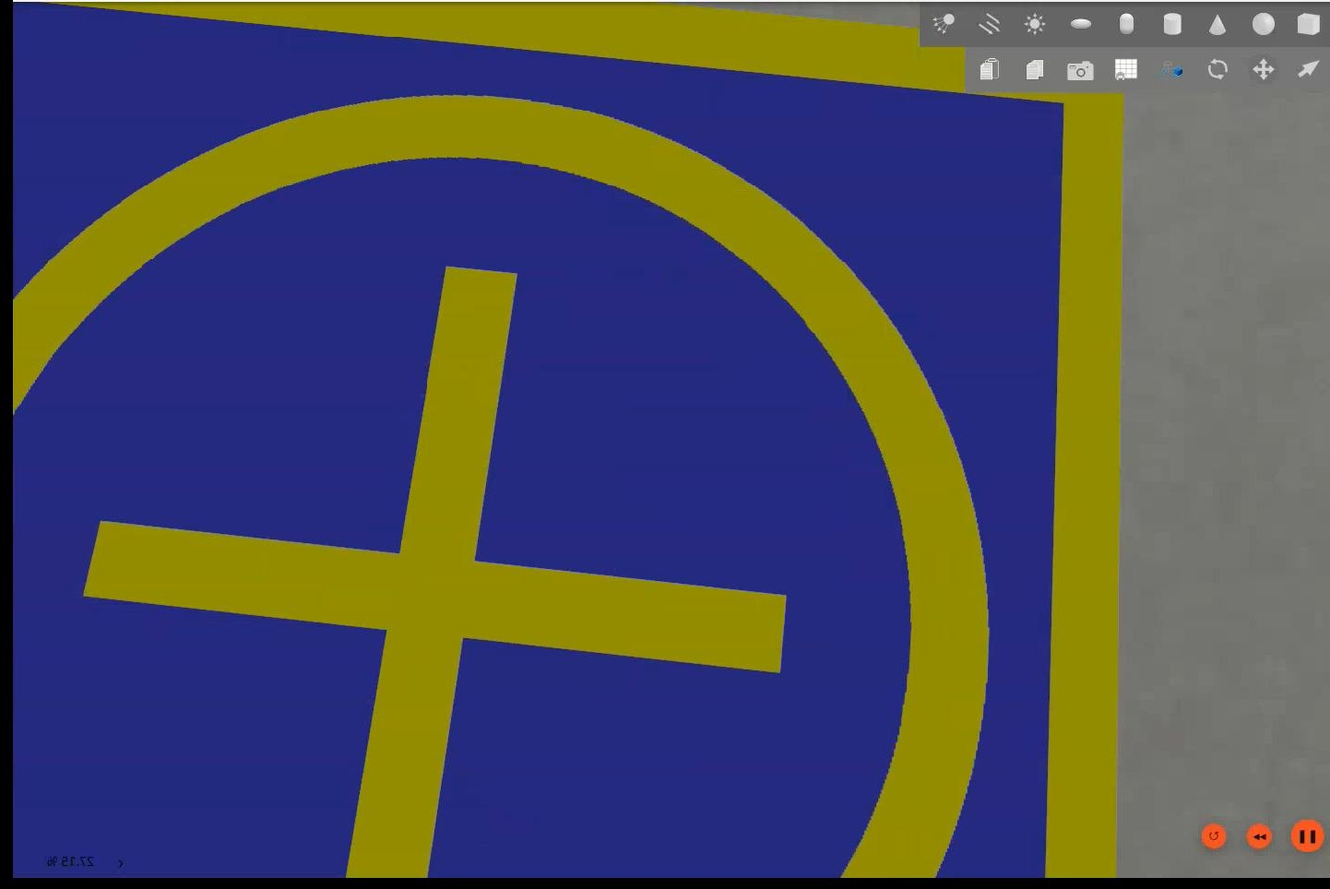small_base: (16, 1, 1118, 880)
